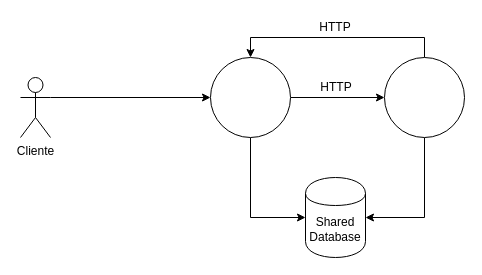
This 482x275 diagram has some shape labels left out. Each missing label, with the box of its shape:
API AUTORIZACIONES: (384, 56, 464, 138)
API SEGUROS: (210, 56, 290, 138)
